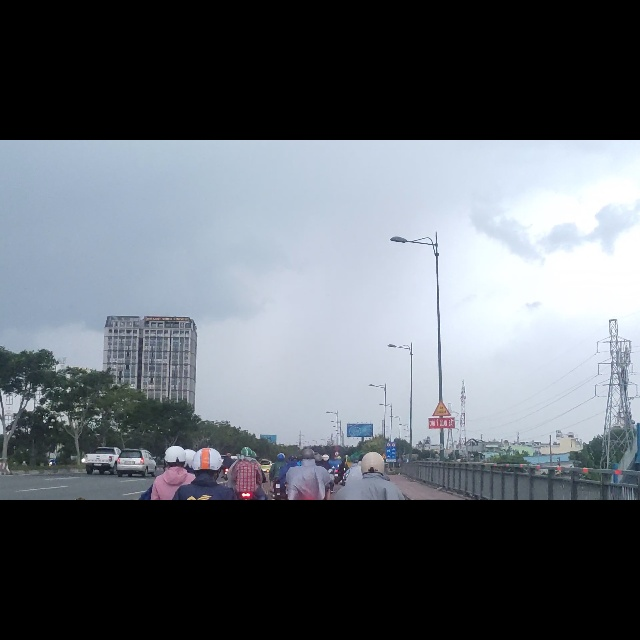bien_nguy_hiem: (431, 462, 451, 492)
